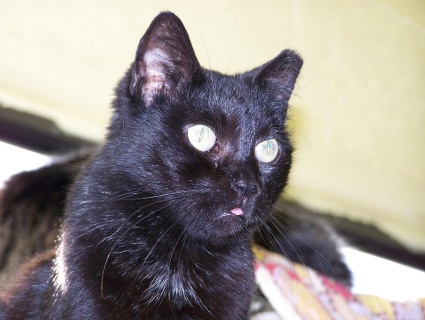Cat: (5, 12, 355, 318)
